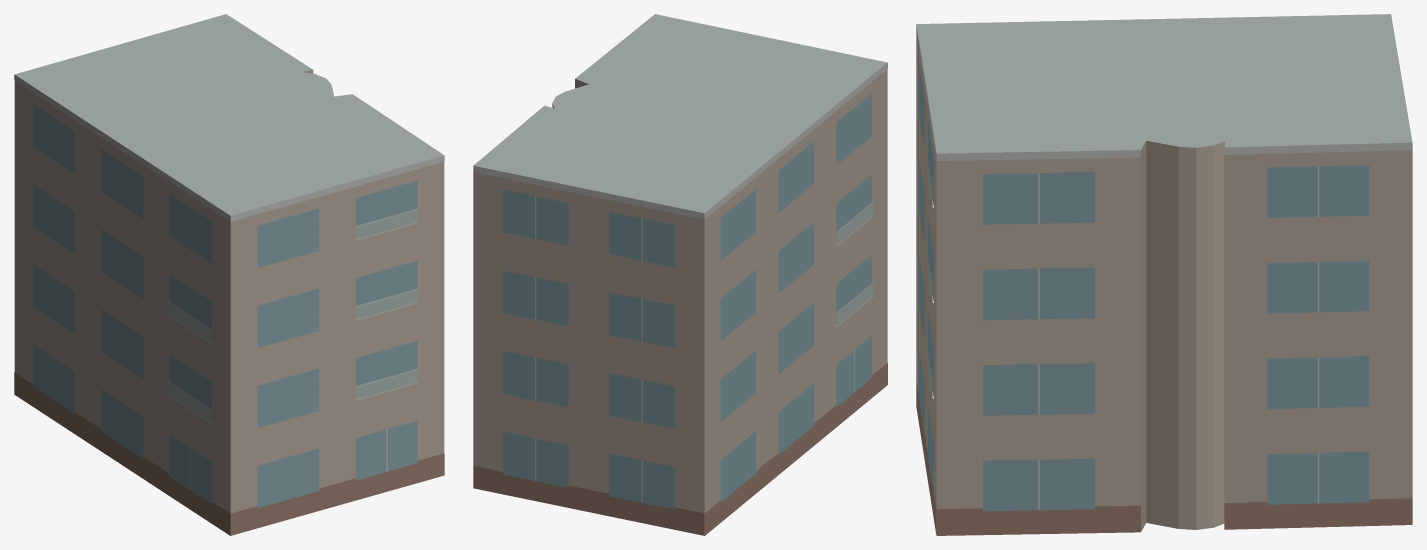
Rendered from survey-upis-32747233.glb.
3 renders of one model, left to right at view 1: azimuth 30°, elevation 25°; view 2: azimuth 150°, elevation 25°; view 3: azimuth 270°, elevation 25°, orthographic. The views are drawn at different scales.
Visible parts, largest first — view 1: survey-upis-32747233.tmp; view 2: survey-upis-32747233.tmp; view 3: survey-upis-32747233.tmp.
Part boxes in pixels (left/top/right/bottom): survey-upis-32747233.tmp: left=14, top=14, right=444, bottom=535; survey-upis-32747233.tmp: left=473, top=14, right=887, bottom=535; survey-upis-32747233.tmp: left=916, top=14, right=1412, bottom=535.
Bounding box in the file's own units: 9.73 × 12.4 × 14.6.
